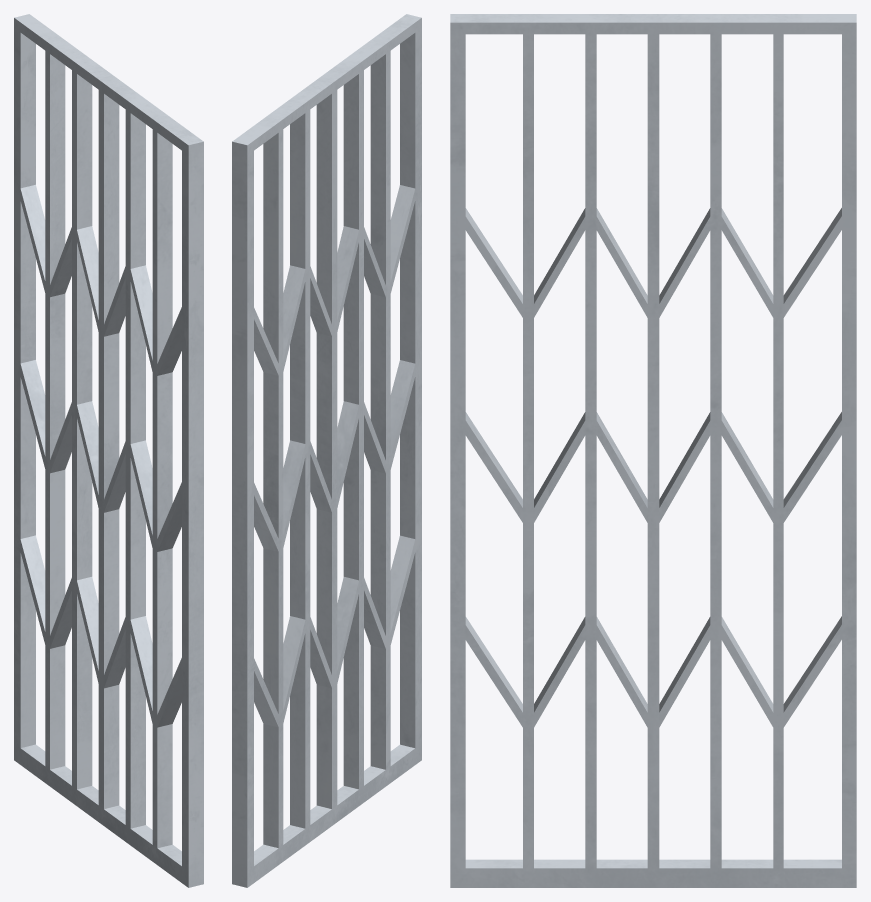
File: SM_MetalFrame.fbx
3 views of the same model, side by side, from view 1: azimuth 30°, elevation 25°; view 2: azimuth 150°, elevation 25°; view 3: azimuth 270°, elevation 25° (orthographic). The views are drawn at different scales.
Visible parts, largest first — view 1: SM_MetalFrame_LOD0; view 2: SM_MetalFrame_LOD0; view 3: SM_MetalFrame_LOD0.
Part boxes in pixels (x1,y1,x2,y2): SM_MetalFrame_LOD0: (14, 14, 203, 887); SM_MetalFrame_LOD0: (232, 14, 421, 887); SM_MetalFrame_LOD0: (450, 14, 856, 887).
Bounding box in the file's own units: 9.74 × 192 × 451.
1 material, 1 textured.
